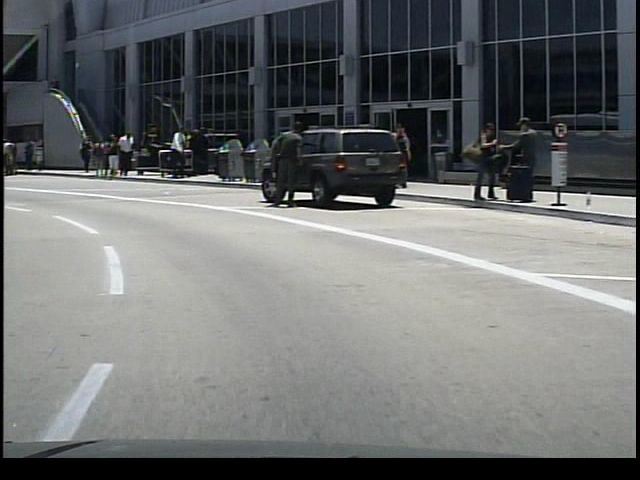person: (498, 114, 540, 201), (269, 117, 302, 215), (463, 116, 497, 204), (163, 124, 186, 181), (113, 128, 134, 179), (98, 132, 118, 181), (72, 132, 91, 176)
